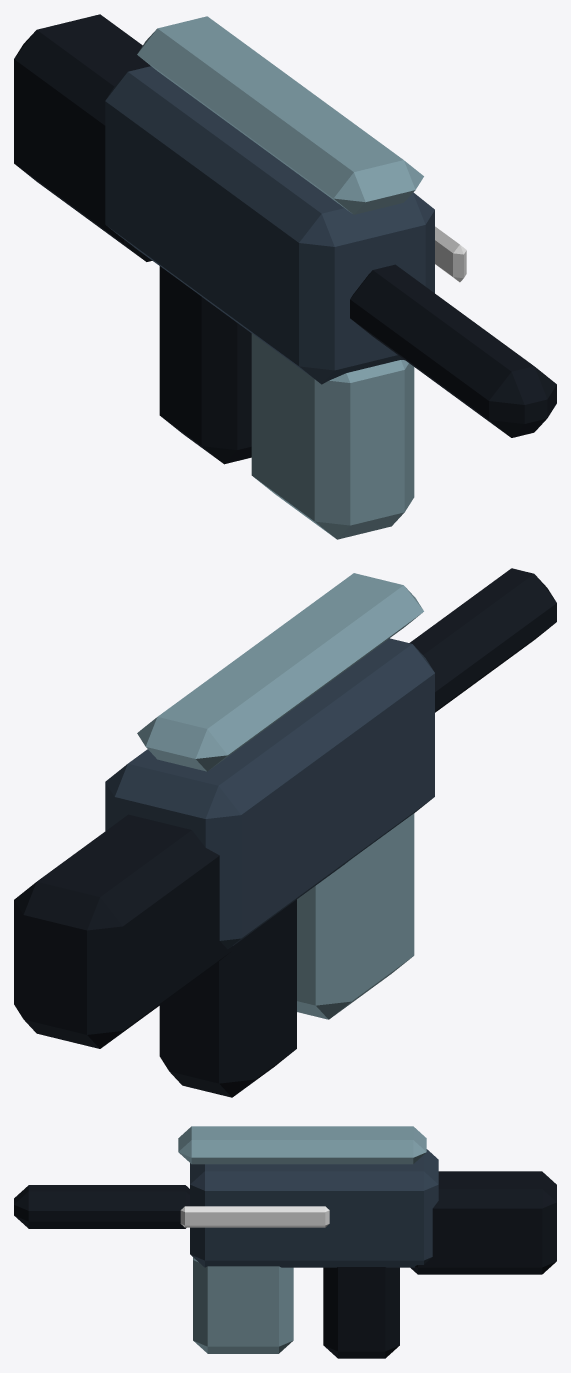
The model's file is Breacher.fbx.
The picture shows the model from 3 angles, top to bottom: view 1: azimuth 30°, elevation 25°; view 2: azimuth 150°, elevation 25°; view 3: azimuth 270°, elevation 25°; orthographic projection. The views are drawn at different scales.
Parts seen in each view (by area): view 1: Breacher_Mesh; view 2: Breacher_Mesh; view 3: Breacher_Mesh.
Part boxes in pixels (x1,y1,x2,y2): Breacher_Mesh: (14,14,556,539); Breacher_Mesh: (14,568,556,1097); Breacher_Mesh: (14,1126,556,1358).
Bounding box in the file's own units: 16.55 × 40.75 × 91.75.
